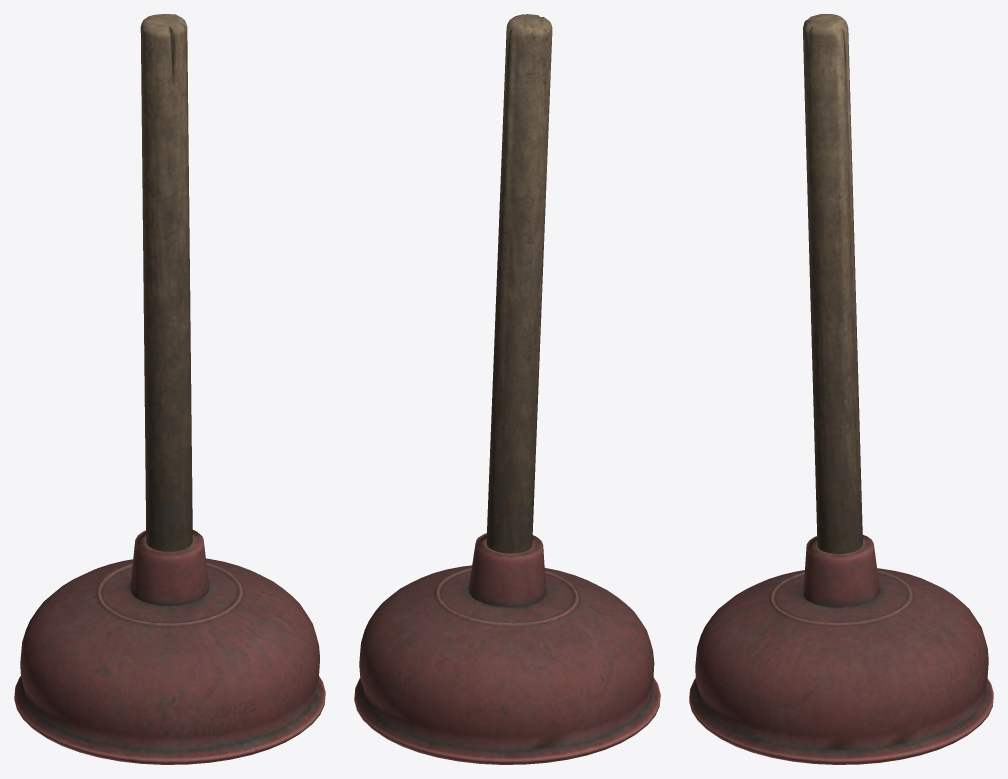
File: plunger.glb
3 views of the same model, side by side, from view 1: azimuth 30°, elevation 25°; view 2: azimuth 150°, elevation 25°; view 3: azimuth 270°, elevation 25° (orthographic). The views are drawn at different scales.
Visible parts, largest first — view 1: plunger; view 2: plunger; view 3: plunger.
Part boxes in pixels (x1,y1,x2,y2): plunger: (14,14,325,764); plunger: (354,14,660,764); plunger: (689,14,993,764).
Size of the model in its own units: 0.1721 by 0.4211 by 0.1721.
Materials: 1 (1 with a texture image).
